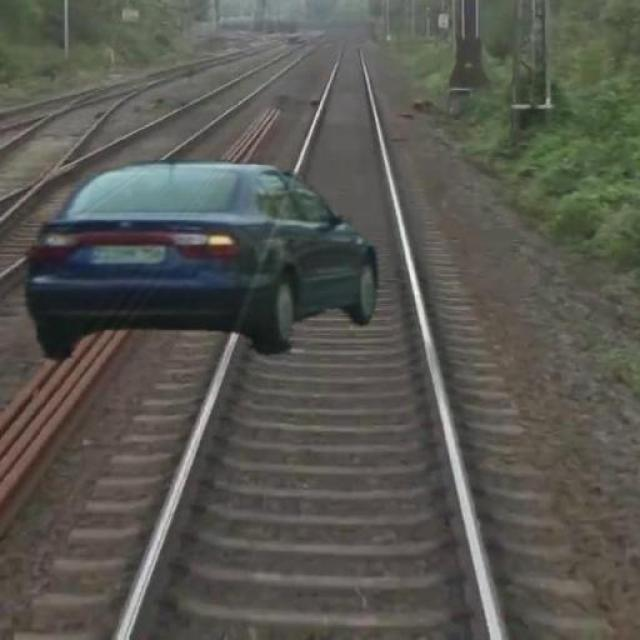vehicle: (25, 158, 388, 360)
